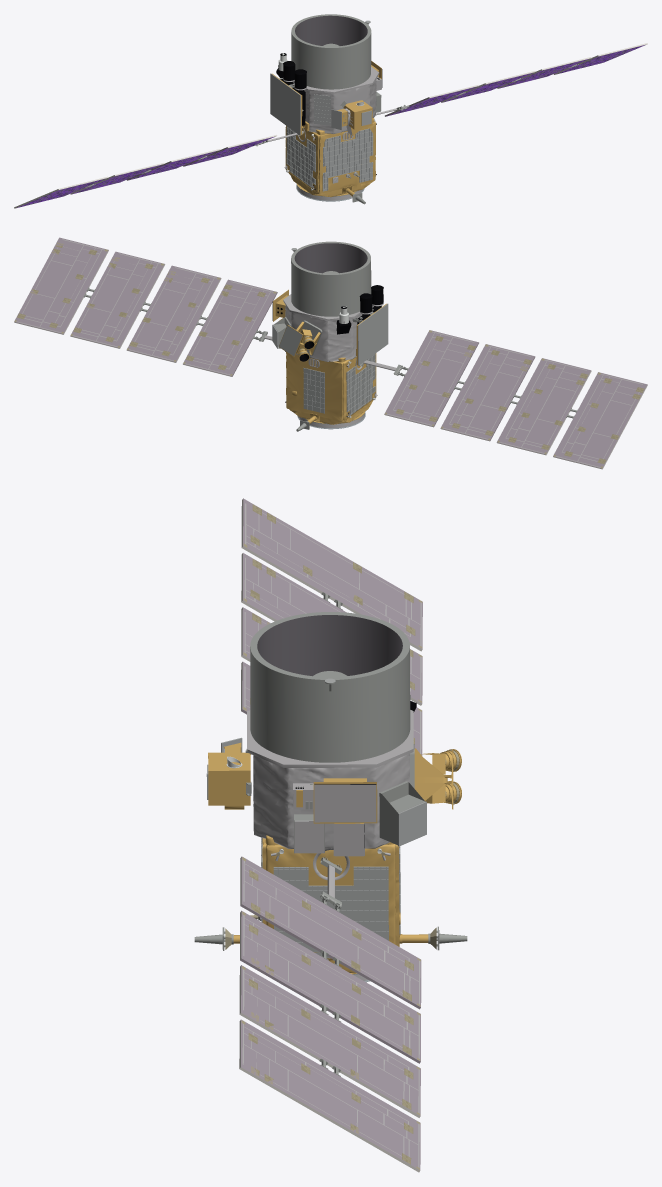
Rendered from cloud-aerosol-lidar-and-infrared-pathfinder-sate.glb.
The picture shows the model from 3 angles, top to bottom: view 1: azimuth 30°, elevation 25°; view 2: azimuth 150°, elevation 25°; view 3: azimuth 270°, elevation 25°; orthographic projection. The views are drawn at different scales.
Parts seen in each view (by area): view 1: Mesh; view 2: Mesh; view 3: Mesh.
Part boxes in pixels (left/top/right/bottom): Mesh: left=14, top=14, right=647, bottom=208; Mesh: left=14, top=237, right=647, bottom=469; Mesh: left=194, top=498, right=467, bottom=1172.
Size of the model in its own units: 228 by 57.85 by 45.62.
Materials: 1 (1 with a texture image).
